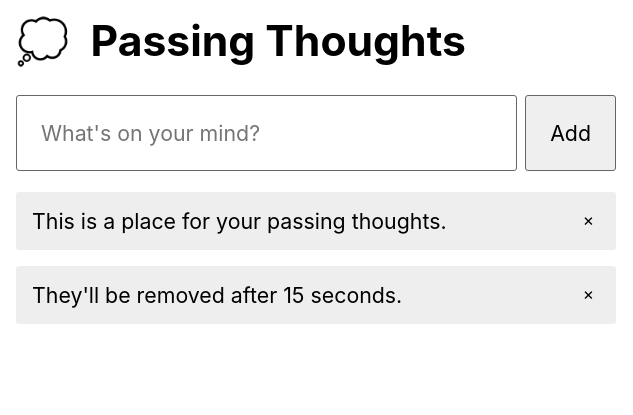
Scenario: Should show new thought to be present
This screenshot has width=633, height=415.
// The code below mimics a user posting a thought with text 'Oreos are delicious'
Type "Oreos are delicious" into the field at (267, 133), box left=16, top=95, right=517, bottom=171
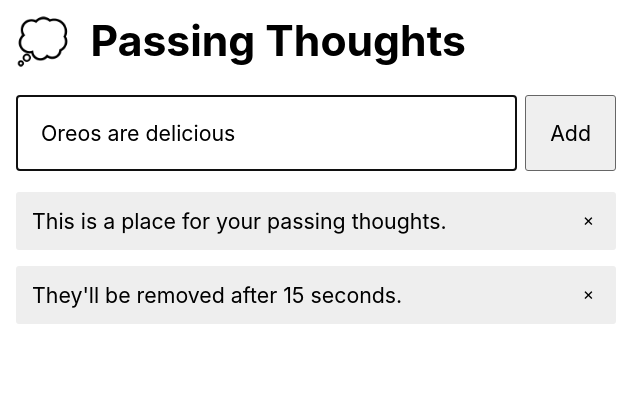
Click the button "Add" at (571, 133), box left=525, top=95, right=616, bottom=171
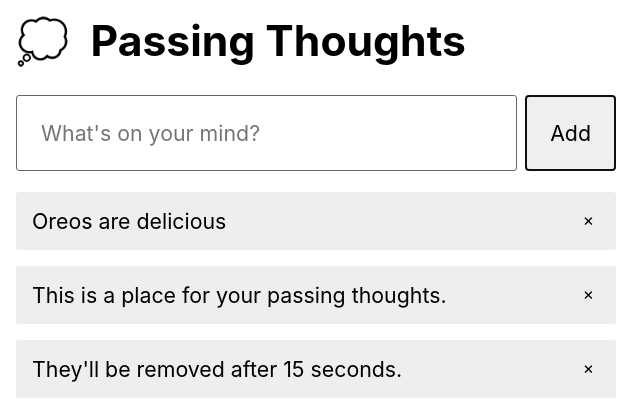
Check: the text "Oreos are delicious" is shown, box left=32, top=208, right=226, bottom=234
